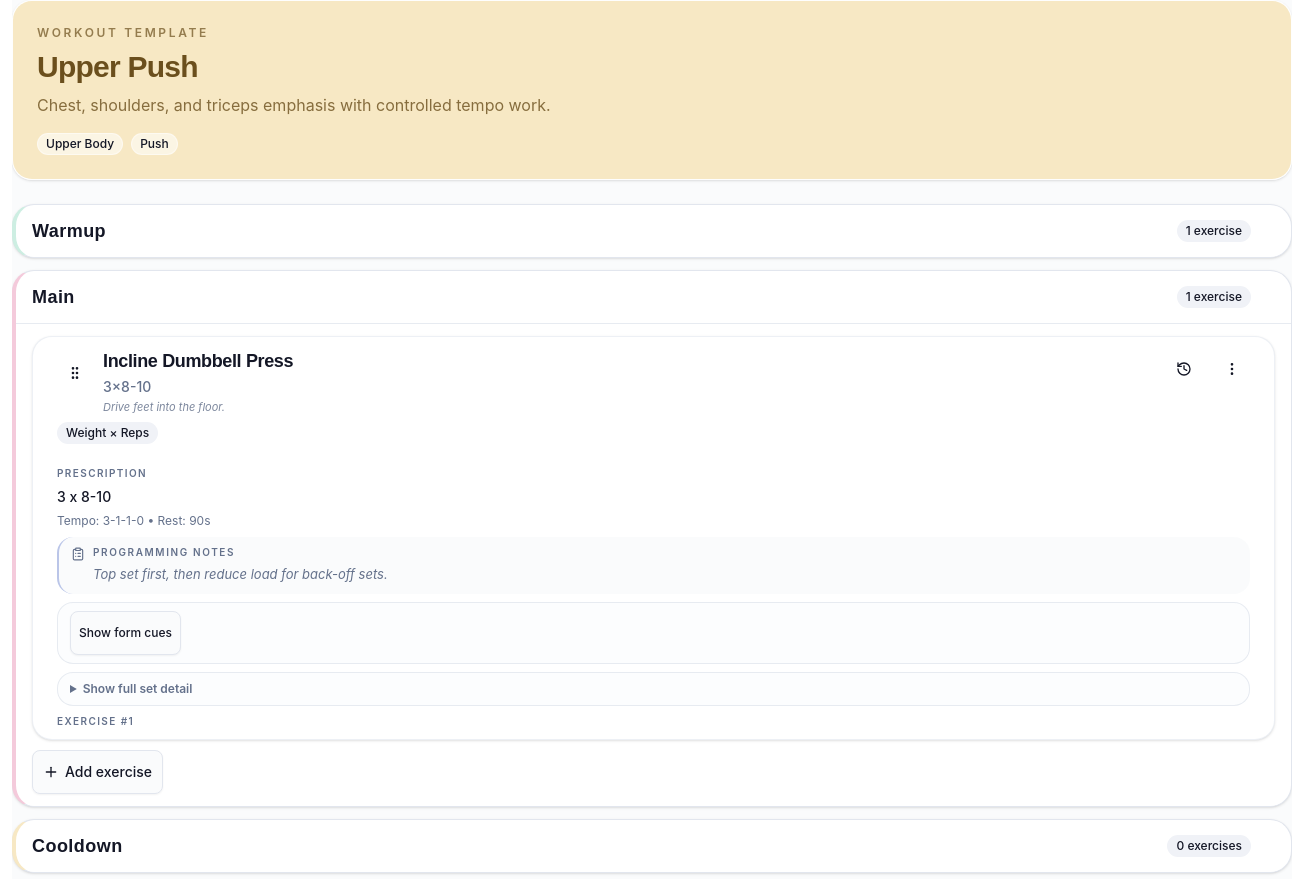
WorkoutTemplateDetail › renders the selected template with real API data and exercise metadata
Check: the heading "Upper Push" is shown, box [37,50,198,83]
Check: the text "Chest, shoulders, and triceps emphasis with controlled tempo work." is shown, box [37,95,551,115]
Click the button "Show form cues": {"x": 126, "y": 632} [70,610,181,654]
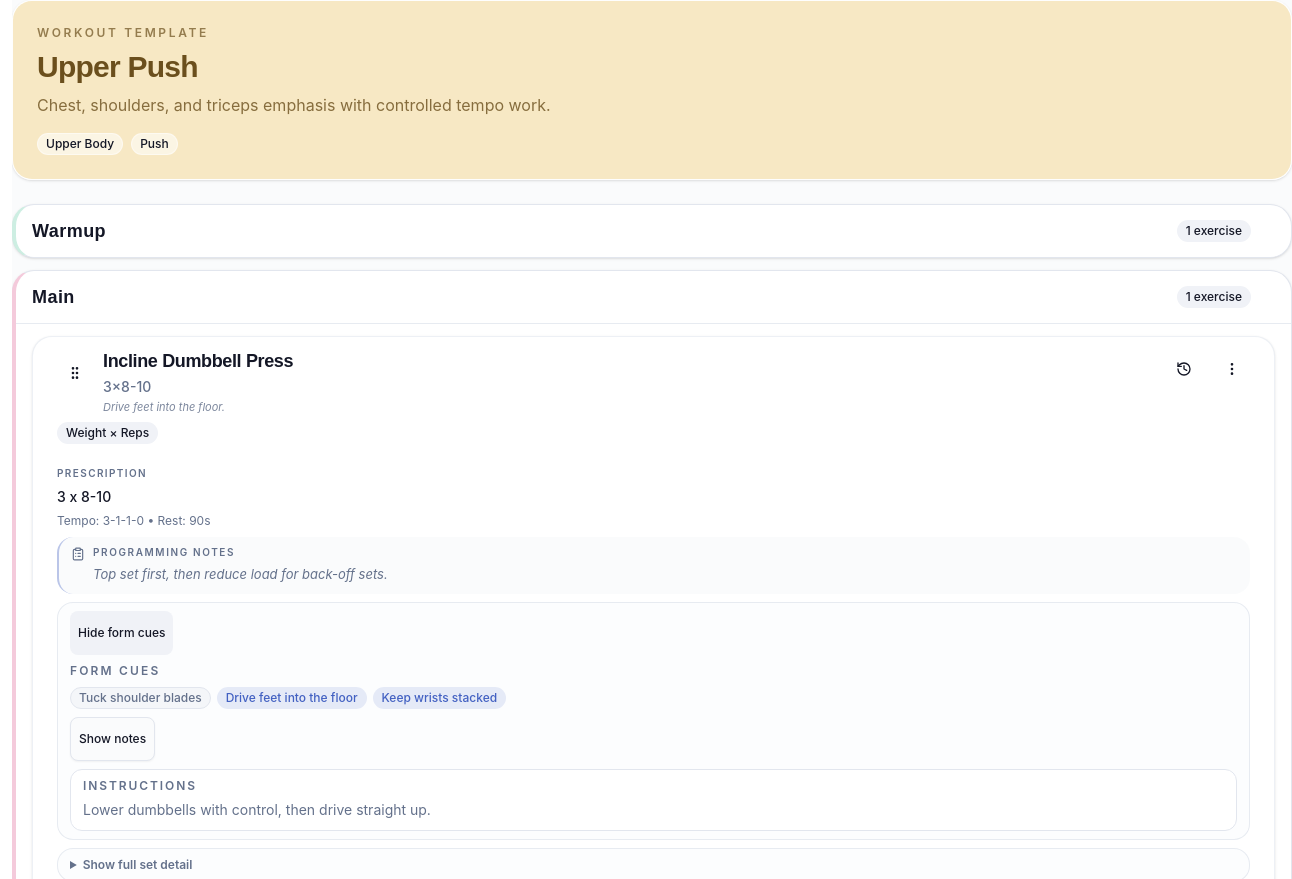
Check: the text "Form cues" is shown, box [70,662,160,678]
Click the button "Show notes": {"x": 113, "y": 738} [70,716,155,760]
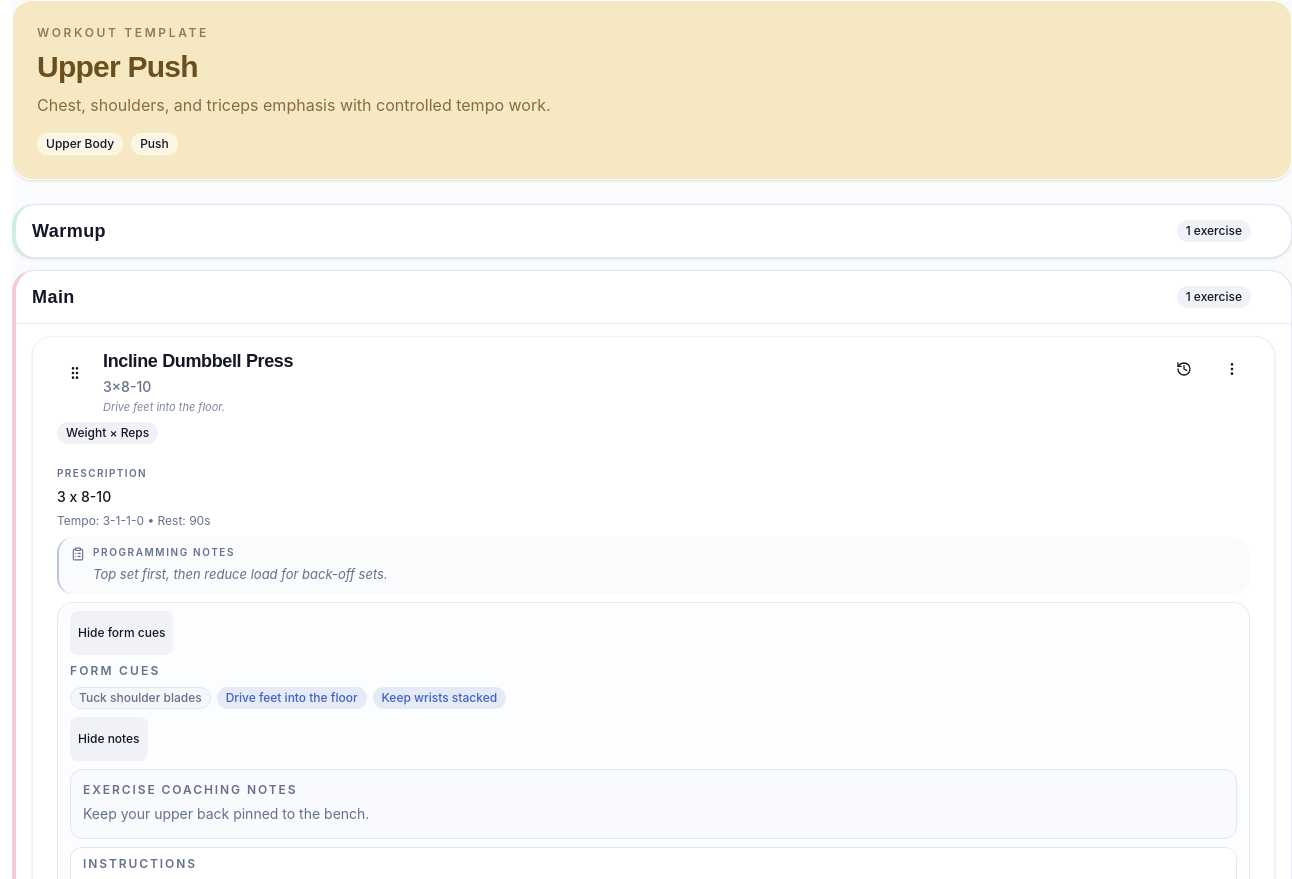
Check: the text "Tuck shoulder blades" is shown, box [70,686,211,708]
Check: the text "Keep wrists stacked" is shown, box [373,686,506,708]
Check: the text "Exercise coaching notes" is shown, box [83,782,298,796]
